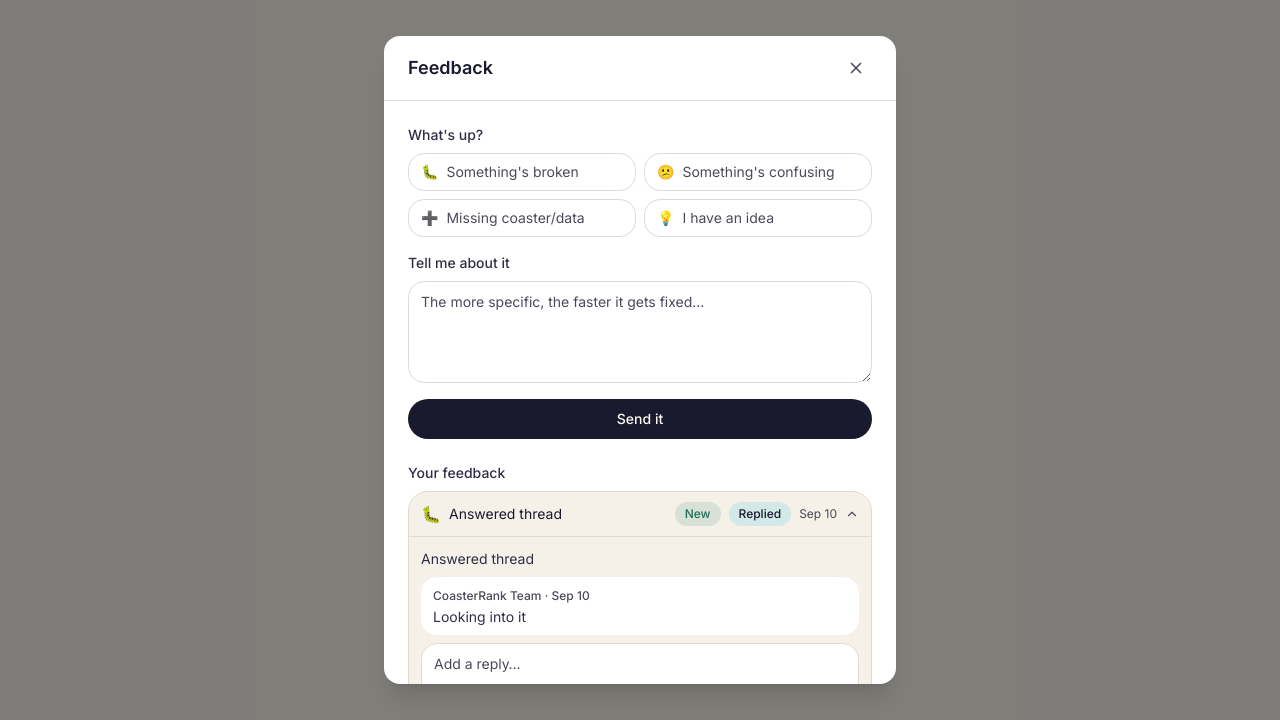
FeedbackModal › sends a user reply on an admin-answered thread
Type "It also happens on iOS" into the text box named "reply to thread" at (640, 674), box [421,643,859,705]
(page scrolled)
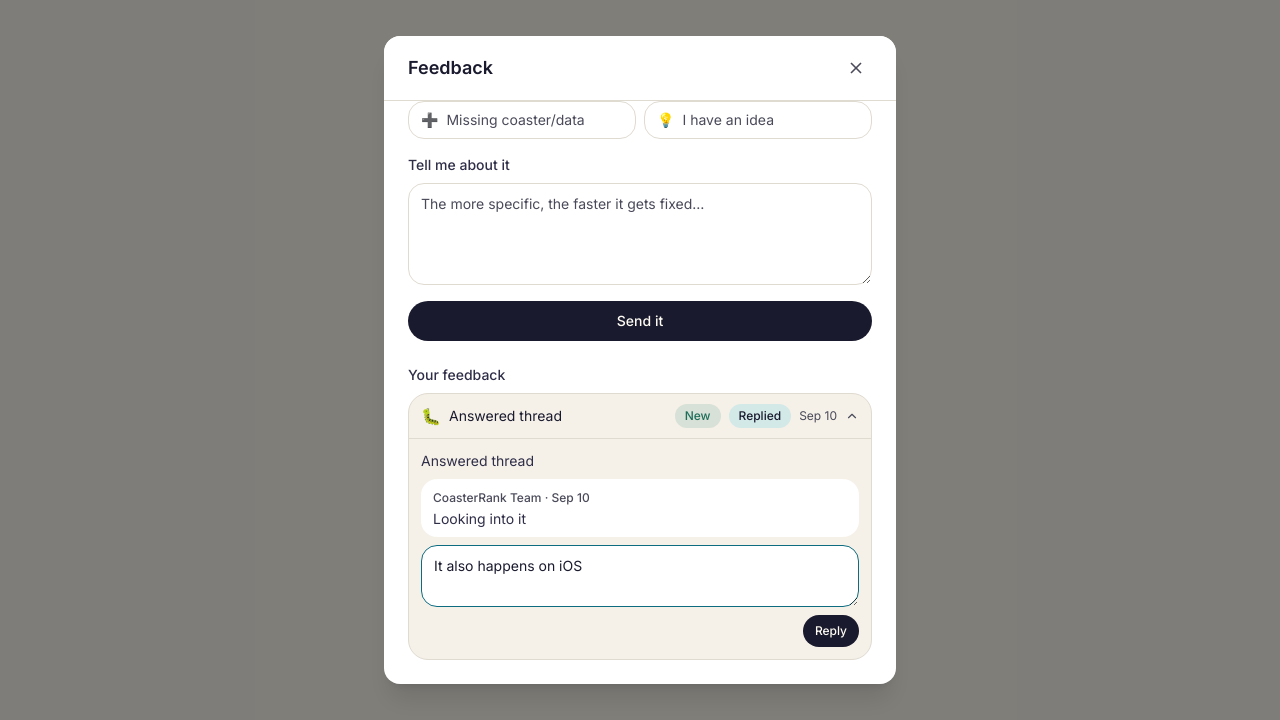
Click the button "Reply" at (831, 631), box [803,615,859,647]
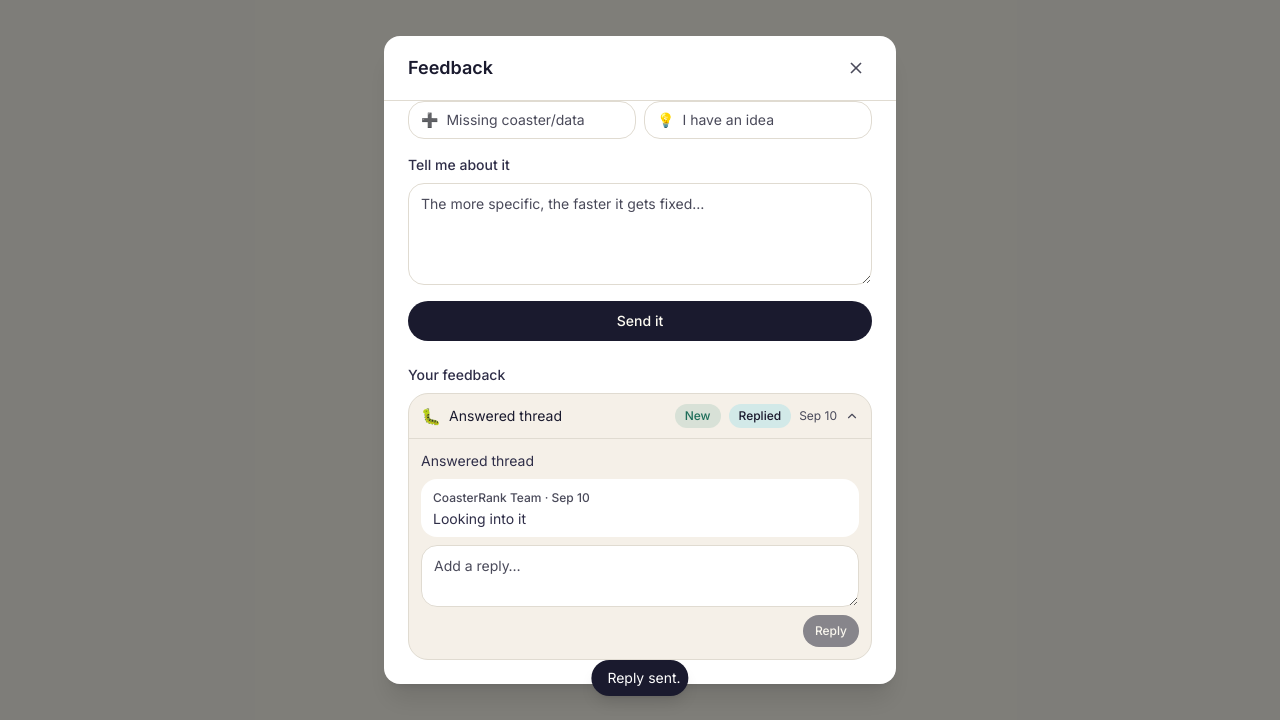
Expected: the text "Reply sent." is shown, [607,668,681,688]
